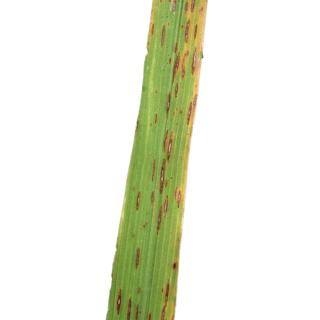Bercak-Cokelat-Sempit: (115, 282, 155, 320), (150, 128, 173, 194), (180, 0, 200, 44), (160, 274, 176, 320), (155, 194, 172, 233), (182, 90, 198, 128), (156, 23, 172, 51), (162, 90, 175, 123), (169, 51, 180, 84), (134, 187, 144, 218), (134, 243, 144, 271), (175, 184, 185, 209), (190, 46, 198, 77)
